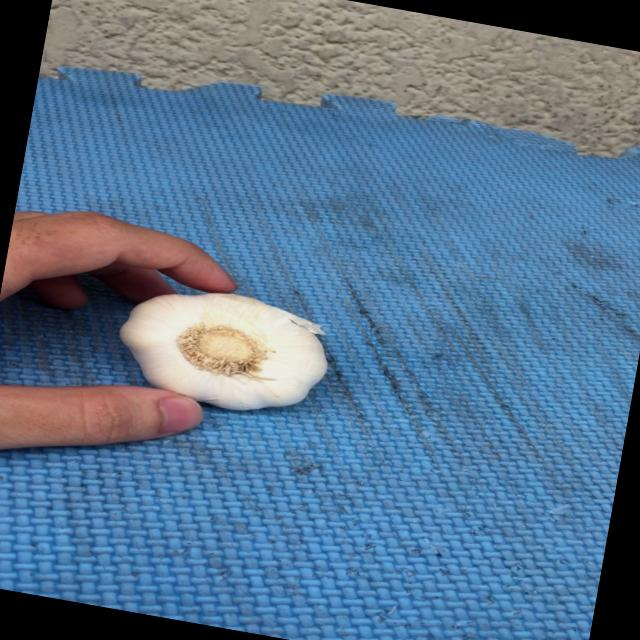garlic: (102, 270, 342, 436)
